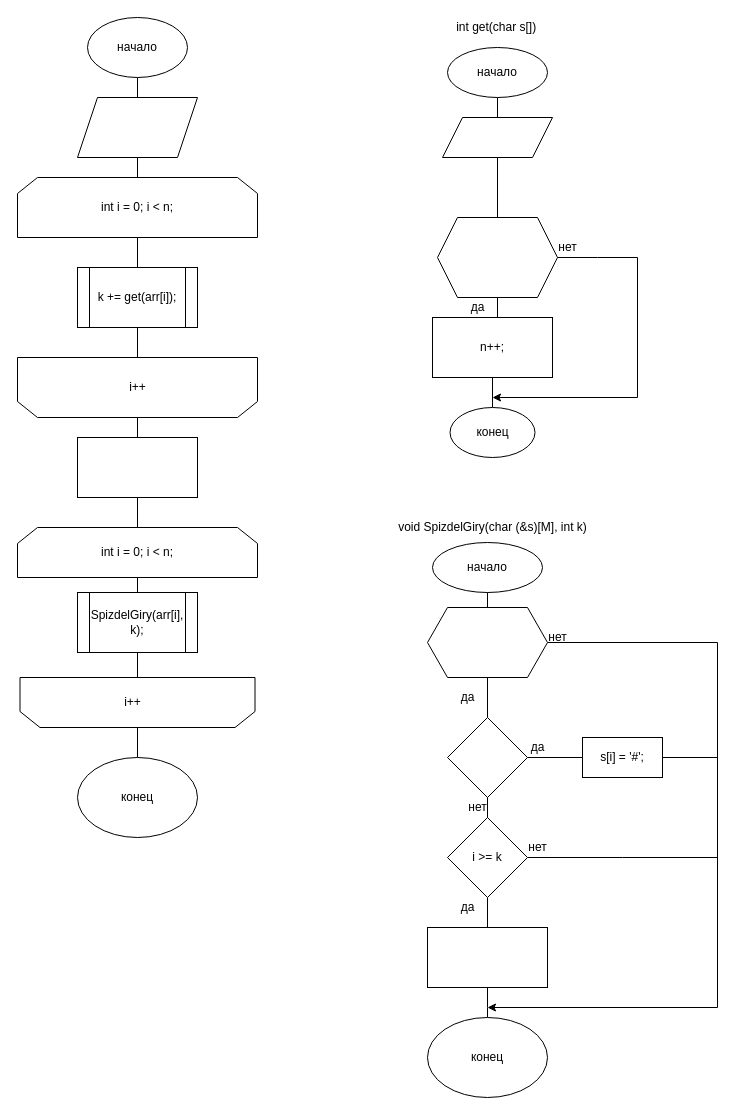
Image size: 743x1115. Some labels were removed from this diagram. The centre of each missing label's shape, as x and y in pixels:
i < k && s[i] == '\0': point 487,757
int i = 0; i < M; i++: point 487,642
k /= n;: point 137,467
n, k: point 137,127
s[i] = '\0';: point 487,957
s[uk++] != '\0': point 497,257
uk = 0, n = 0: point 497,137
